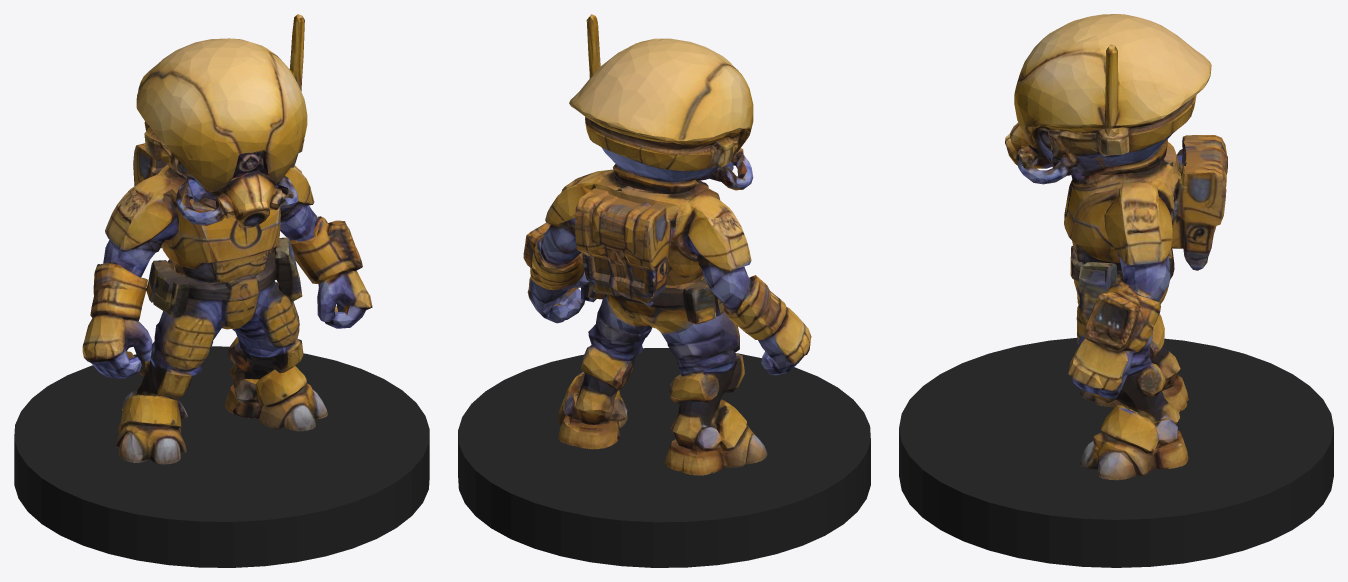
File: pf-drone-controller.glb
3 renders of one model, left to right at view 1: azimuth 30°, elevation 25°; view 2: azimuth 150°, elevation 25°; view 3: azimuth 270°, elevation 25°, orthographic. The views are drawn at different scales.
Parts seen in each view (by area): view 1: figure, base; view 2: figure, base; view 3: base, figure.
Boxes of the visible parts, box(x1,y1,x2,y2) form: figure: box(82, 14, 372, 464); base: box(14, 346, 429, 567); figure: box(523, 14, 811, 475); base: box(458, 348, 870, 567); base: box(899, 338, 1333, 567); figure: box(1005, 14, 1227, 480).
Bounding box in the file's own units: 0.9843 × 1.17 × 0.9843.
2 materials, 1 textured.
